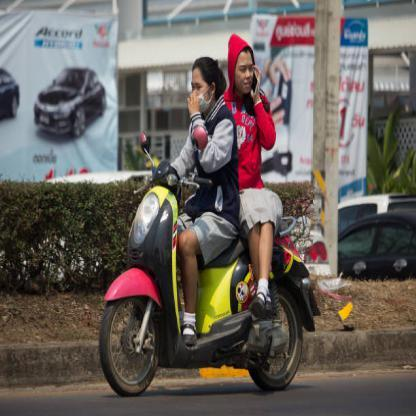Motorcycle: (98, 129, 312, 405)
